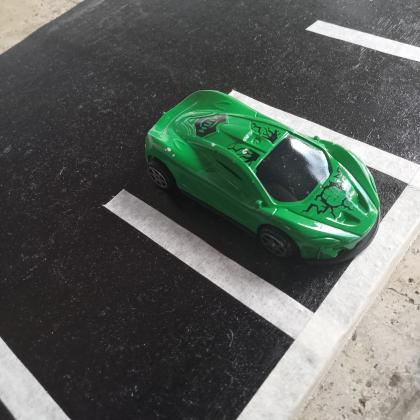Car: (142, 88, 382, 266)
